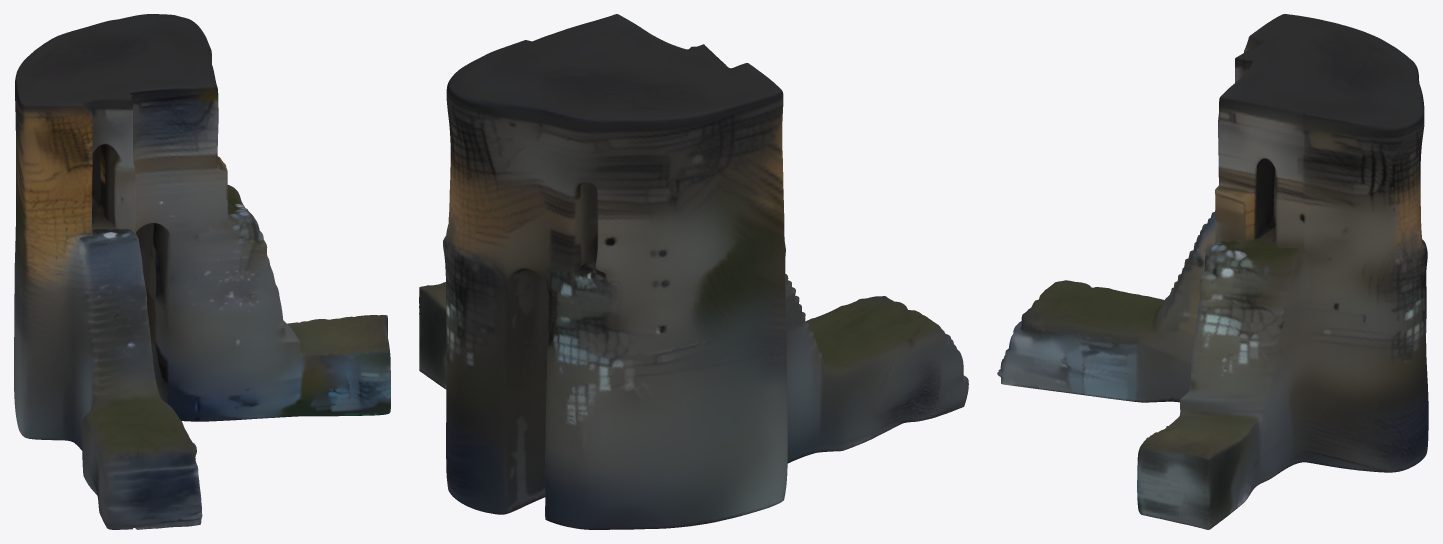
The model's file is base_basic_shaded.fbx.
The picture shows the model from 3 angles, left to right: view 1: azimuth 30°, elevation 25°; view 2: azimuth 150°, elevation 25°; view 3: azimuth 270°, elevation 25°; orthographic projection. The views are drawn at different scales.
Visible parts, largest first — view 1: model; view 2: model; view 3: model.
Boxes of the visible parts, x1,y1,x2,y2 form: model: (14, 14, 390, 529); model: (419, 14, 968, 529); model: (997, 14, 1428, 529).
Size of the model in its own units: 178 by 157 by 176.
